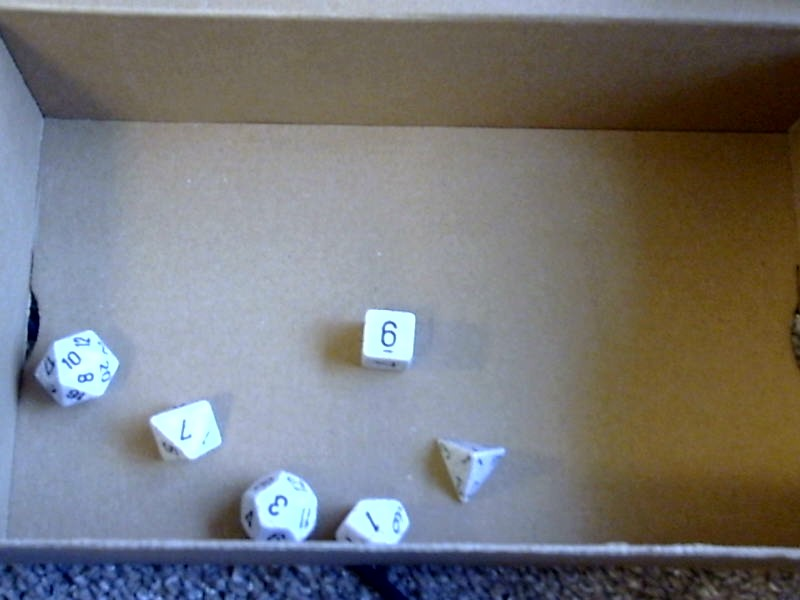d10 1: (333, 492, 414, 556)
d12 3: (237, 467, 326, 549)
d20 10: (25, 324, 122, 410)
d4 1: (434, 431, 508, 504)
d6 6: (350, 302, 421, 378)
d8 7: (143, 396, 225, 468)
